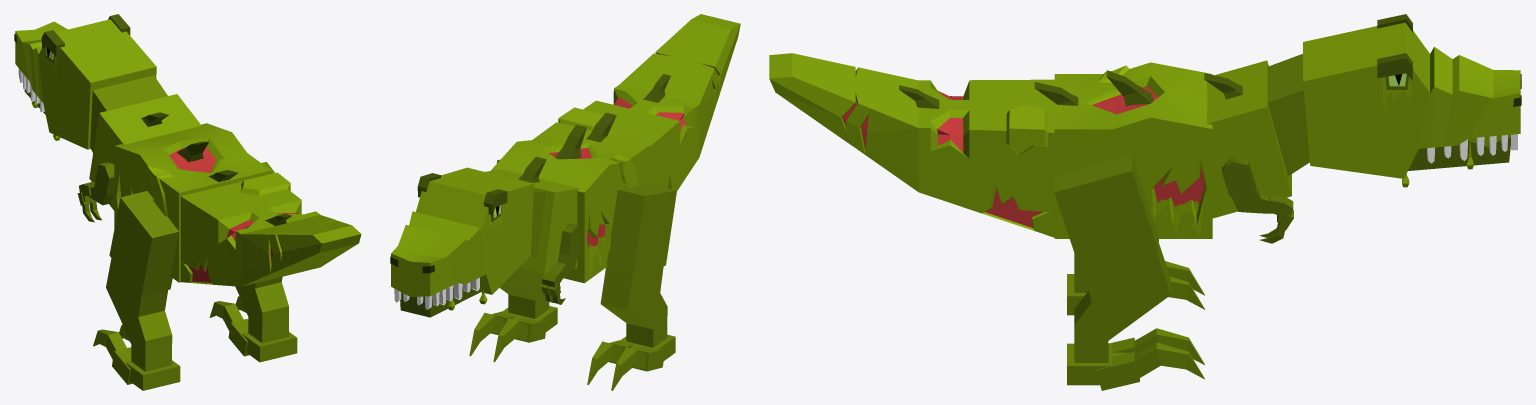
File: mutated_t_rex.obj
3 renders of one model, left to right at view 1: azimuth 30°, elevation 25°; view 2: azimuth 150°, elevation 25°; view 3: azimuth 270°, elevation 25°, orthographic. The views are drawn at different scales.
Visible parts, largest first — view 1: Tail, LeftLeg, Head, Torso, RightLeg, NeckAlt, Neck, LeftArm; view 2: Head, Tail, LeftLeg, Torso, RightLeg, NeckAlt, LeftArm, Neck; view 3: Tail, Head, Torso, RightLeg, NeckAlt, Neck, RightArm, LeftLeg.
Boxes of the visible parts, <box> form: Tail: <box>180,172,361,286</box>; LeftLeg: <box>93,191,180,390</box>; Head: <box>14,14,156,149</box>; Torso: <box>114,123,271,282</box>; RightLeg: <box>209,162,297,362</box>; NeckAlt: <box>89,94,201,210</box>; Neck: <box>90,75,167,152</box>; LeftArm: <box>77,162,114,222</box>; Head: <box>390,167,533,317</box>; Tail: <box>558,14,740,190</box>; LeftLeg: <box>587,184,676,390</box>; Torso: <box>491,112,649,283</box>; RightLeg: <box>469,159,557,361</box>; NeckAlt: <box>485,156,578,273</box>; LeftArm: <box>540,223,582,304</box>; Neck: <box>530,189,545,258</box>; Tail: <box>769,53,1054,237</box>; Head: <box>1303,14,1521,187</box>; Torso: <box>1034,62,1212,238</box>; RightLeg: <box>1054,155,1204,390</box>; NeckAlt: <box>1204,60,1291,218</box>; Neck: <box>1267,54,1309,176</box>; RightArm: <box>1222,156,1293,243</box>; LeftLeg: <box>1067,253,1204,315</box>.
Size of the model in its own units: 6.9 by 10.58 by 23.42.
